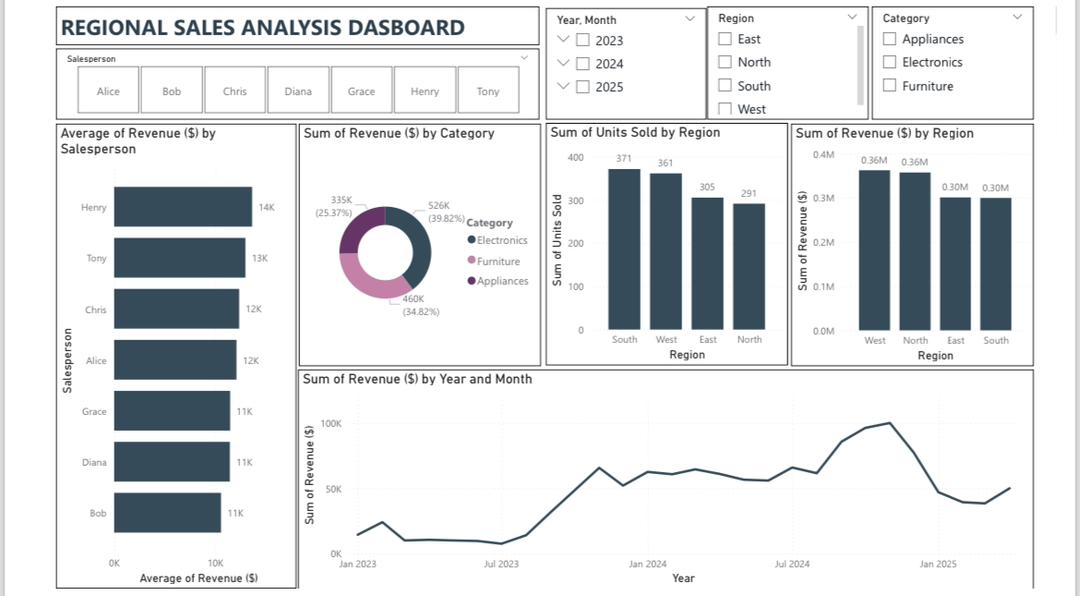

This screenshot's page, from the dashboard's own definition file:
{"tool":"powerbi","page":{"name":"Page 1","canvas":[1280,720],"ordinal":0},"visuals":[{"type":"barChart","fields":{"Category":["Regional Sales Data (2).Salesperson"],"Y":["Regional Sales Data (2).Revenue ($)"]},"box":[40.2,145,297.8,575],"z":0},{"type":"donutChart","fields":{"Category":["Regional Sales Data (2).Category"],"Y":["Regional Sales Data (2).Revenue ($)"]},"box":[340.5,145,300.3,300.3],"z":1},{"type":"columnChart","fields":{"Category":["Regional Sales Data (2).Region"],"Y":["Regional Sales Data (2).Revenue ($)"]},"box":[951.5,145,300.3,300.3],"z":2},{"type":"columnChart","fields":{"Y":["Regional Sales Data (2).Units Sold"],"Category":["Regional Sales Data (2).Region"]},"box":[646.9,143.7,300.3,300.3],"z":3},{"type":"lineChart","fields":{"Category":["Regional Sales Data (2).Date.Variation.Date Hierarchy.Year","Regional Sales Data (2).Date.Variation.Date Hierarchy.Month"],"Y":["Regional Sales Data (2).Revenue ($)"]},"box":[340.4,448.6,911.4,272],"z":4},{"type":"textbox","box":[39.8,0,599.7,47.7],"z":5},{"type":"slicer","fields":{"Values":["Regional Sales Data (2).Category"]},"box":[1051.4,0,200.4,140],"z":6},{"type":"slicer","fields":{"Values":["Regional Sales Data (2).Region"]},"box":[847.1,0,200.2,140],"z":7},{"type":"slicer","fields":{"Values":["Regional Sales Data (2).Salesperson"]},"box":[39.8,52.5,599.7,87.5],"z":8},{"type":"slicer","fields":{"Values":["Regional Sales Data (2).Date.Variation.Date Hierarchy.Year","Regional Sales Data (2).Date.Variation.Date Hierarchy.Month"]},"box":[647.4,1.6,198.8,138.4],"z":9}]}

Visuals, with their boxes in screenshot pixels (x1, y1, x2, y2), scaled from the page's 1280x720 canvas onto the 1080x596 screenshot:
barChart - Regional Sales Data (2).Salesperson x Regional Sales Data (2).Revenue ($): BBox(34, 120, 285, 595)
donutChart - Regional Sales Data (2).Category x Regional Sales Data (2).Revenue ($): BBox(287, 120, 541, 369)
columnChart - Regional Sales Data (2).Region x Regional Sales Data (2).Revenue ($): BBox(803, 120, 1056, 369)
columnChart - Regional Sales Data (2).Units Sold x Regional Sales Data (2).Region: BBox(546, 119, 799, 368)
lineChart - Regional Sales Data (2).Date.Variation.Date Hierarchy.Year x Regional Sales Data (2).Date.Variation.Date Hierarchy.Month: BBox(287, 371, 1056, 595)
textbox: BBox(34, 0, 540, 39)
slicer - Regional Sales Data (2).Category: BBox(887, 0, 1056, 116)
slicer - Regional Sales Data (2).Region: BBox(715, 0, 884, 116)
slicer - Regional Sales Data (2).Salesperson: BBox(34, 43, 540, 116)
slicer - Regional Sales Data (2).Date.Variation.Date Hierarchy.Year x Regional Sales Data (2).Date.Variation.Date Hierarchy.Month: BBox(546, 1, 714, 116)
